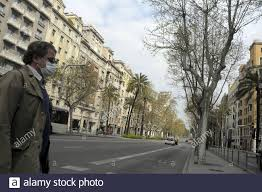mask: (28, 41, 57, 77)
